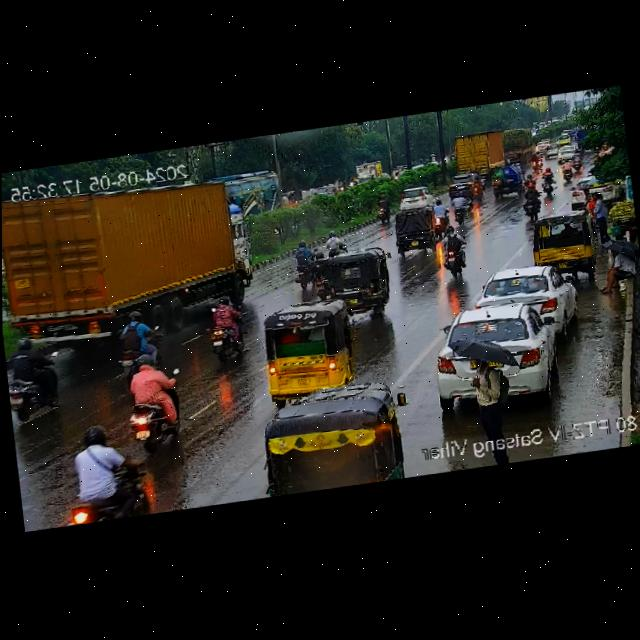bus: (215, 167, 282, 217)
car: (251, 378, 415, 498), (440, 298, 568, 404), (256, 296, 362, 411), (474, 263, 575, 337), (322, 246, 393, 318), (526, 210, 597, 276), (390, 207, 436, 252), (563, 174, 618, 208), (445, 170, 466, 194)
motorcycle: (64, 427, 148, 524), (123, 340, 188, 451), (2, 328, 66, 424), (110, 302, 160, 378), (201, 294, 250, 355), (440, 224, 467, 279), (290, 237, 314, 290), (306, 251, 331, 300), (522, 181, 544, 220), (323, 227, 347, 258), (432, 198, 450, 235), (451, 189, 467, 225), (540, 166, 559, 195), (375, 193, 391, 225), (588, 141, 614, 160), (462, 184, 477, 213), (572, 148, 587, 172), (472, 174, 486, 199), (560, 158, 573, 183), (529, 152, 539, 171), (535, 150, 543, 169), (524, 174, 536, 184), (146, 303, 152, 306)
person: (465, 351, 510, 440), (591, 244, 640, 298), (588, 187, 611, 241)
truck: (1, 158, 265, 346), (452, 127, 505, 167), (499, 124, 537, 161), (491, 159, 525, 199), (353, 160, 383, 186)
